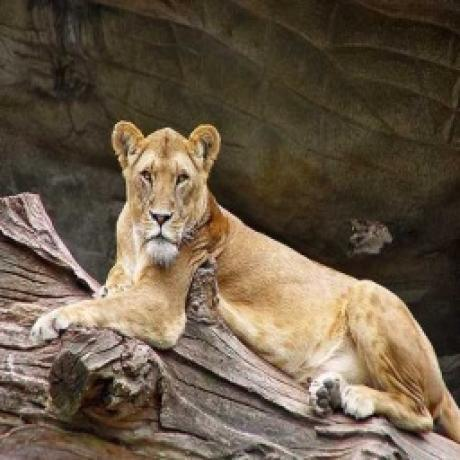Lion: (30, 119, 460, 440)
